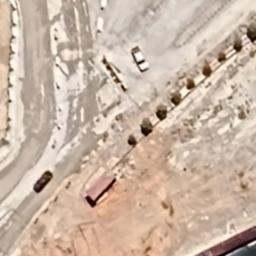pickup: (128, 45, 152, 75)
